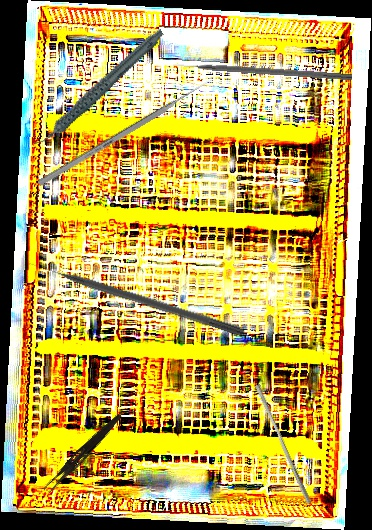Dressing Forceps: (43, 409, 123, 497)
Handpiece: (14, 27, 182, 148)
Hook Surgical: (172, 59, 353, 81)
Pusher: (37, 78, 212, 187), (27, 256, 247, 338), (250, 383, 317, 505)
